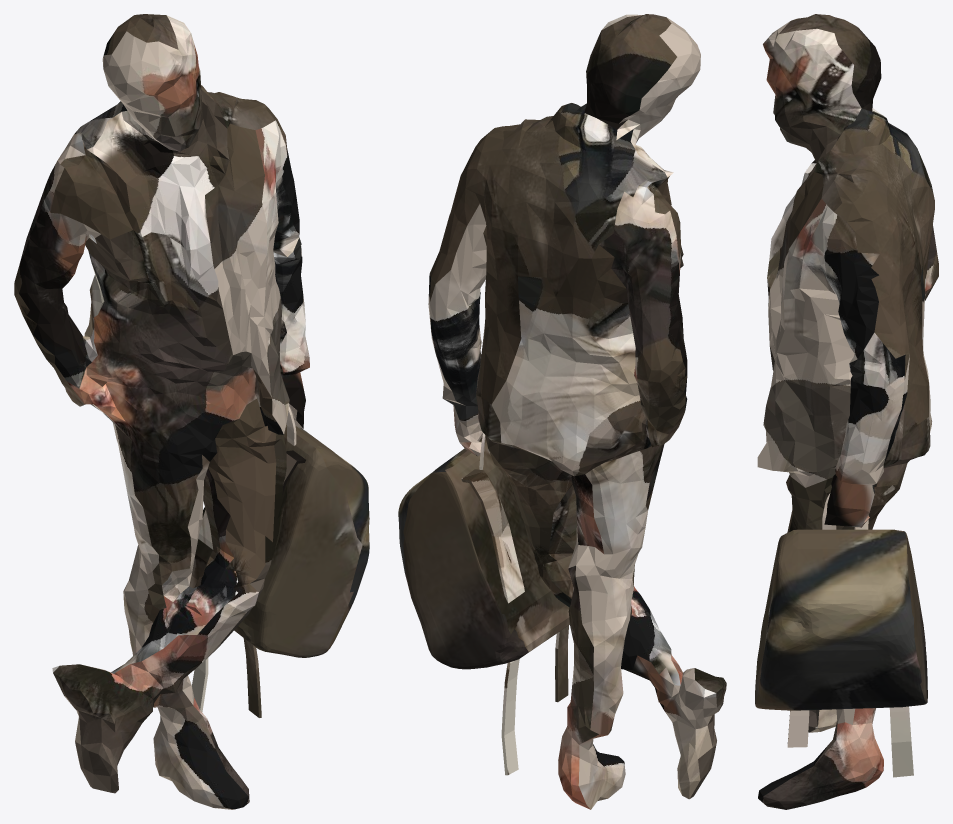
3 views of the same model, side by side, from view 1: azimuth 30°, elevation 25°; view 2: azimuth 150°, elevation 25°; view 3: azimuth 270°, elevation 25° (orthographic). The views are drawn at different scales.
Parts seen in each view (by area): view 1: mn_2; view 2: mn_2; view 3: mn_2.
Part boxes in pixels (x1=…): mn_2: x1=14, y1=14, x2=369, y2=809; mn_2: x1=398, y1=14, x2=726, y2=809; mn_2: x1=755, y1=14, x2=938, y2=809.
Bounding box in the file's own units: 0.6773 × 1.71 × 0.3749.
1 material, 1 textured.
